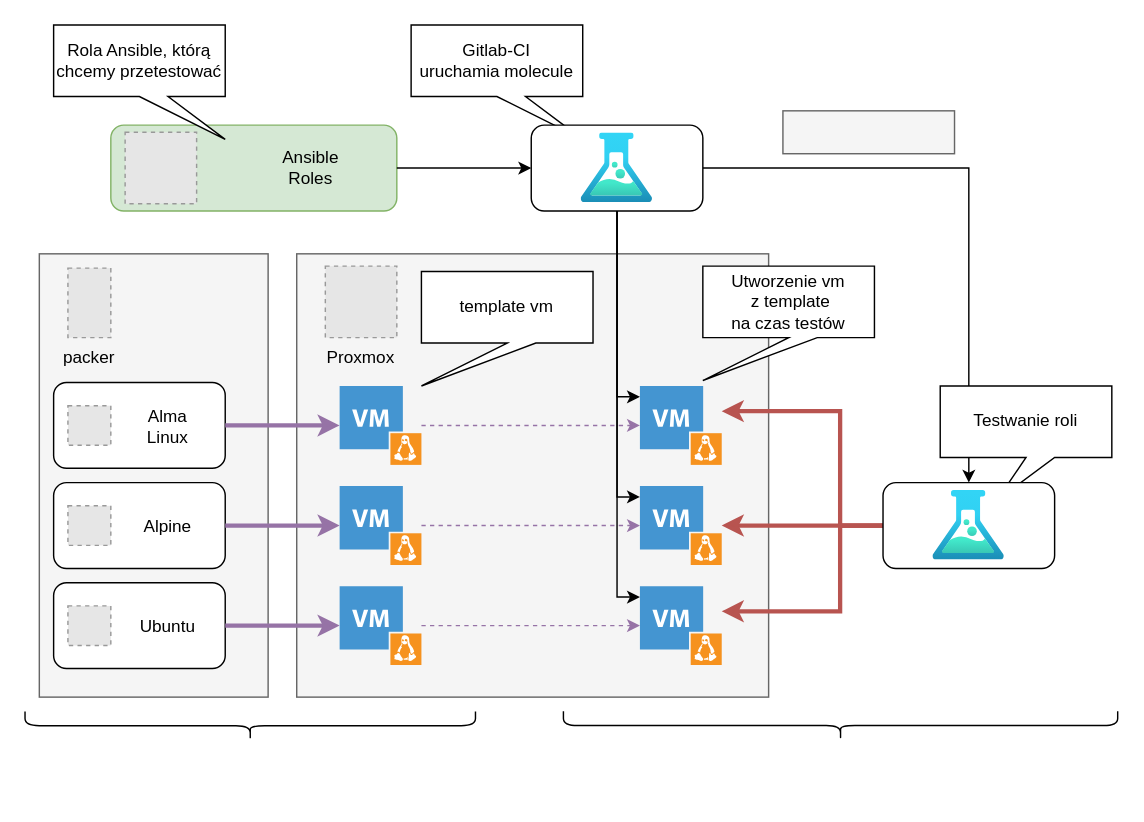
This 1144x822 diagram has some shape labels left out. Grey dashed boxes stand in for pictures. Each missing label, with the centre of its shape:
"molecule converge" belongs at [868,131].
"realizacja z poziomu repozytorium packera" belongs at [249,725].
"testy wykonywane w ramach Gitlab-CI z poziomu repozytorium Ansible role" belongs at [840,725].
